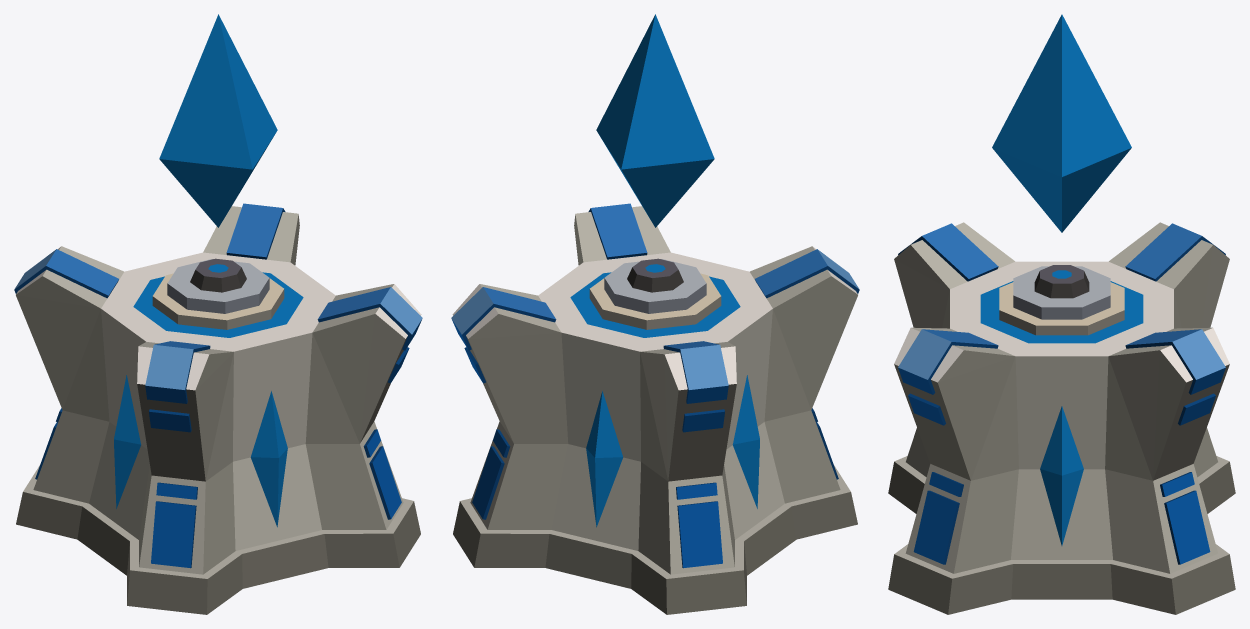
The model's file is TB_MageTower_Lvl3.FBX.
3 views of the same model, side by side, from view 1: azimuth 30°, elevation 25°; view 2: azimuth 150°, elevation 25°; view 3: azimuth 270°, elevation 25° (orthographic). The views are drawn at different scales.
Parts seen in each view (by area): view 1: TB_MageTower_Lvl3, TB_MageTower_Lvl3_Crystal; view 2: TB_MageTower_Lvl3, TB_MageTower_Lvl3_Crystal; view 3: TB_MageTower_Lvl3, TB_MageTower_Lvl3_Crystal.
Part boxes in pixels (bbox=[...]): TB_MageTower_Lvl3: bbox=[14, 203, 422, 614]; TB_MageTower_Lvl3_Crystal: bbox=[159, 14, 277, 227]; TB_MageTower_Lvl3: bbox=[451, 203, 859, 614]; TB_MageTower_Lvl3_Crystal: bbox=[596, 14, 714, 227]; TB_MageTower_Lvl3: bbox=[888, 222, 1235, 614]; TB_MageTower_Lvl3_Crystal: bbox=[992, 14, 1131, 232].
Bounding box in the file's own units: 7.48 × 12.53 × 7.48.
